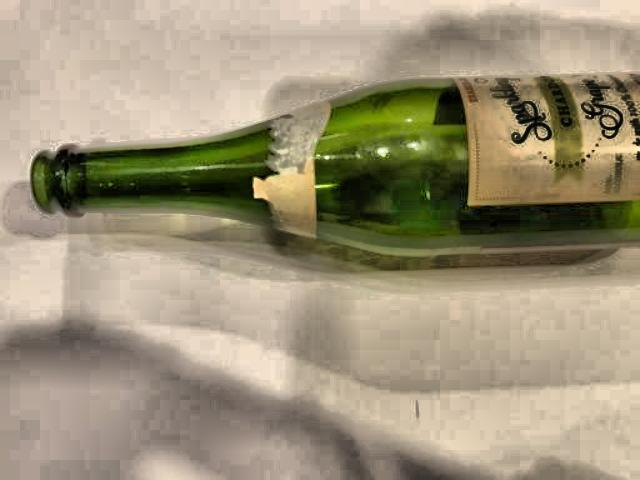Bottles: (18, 63, 640, 301)
